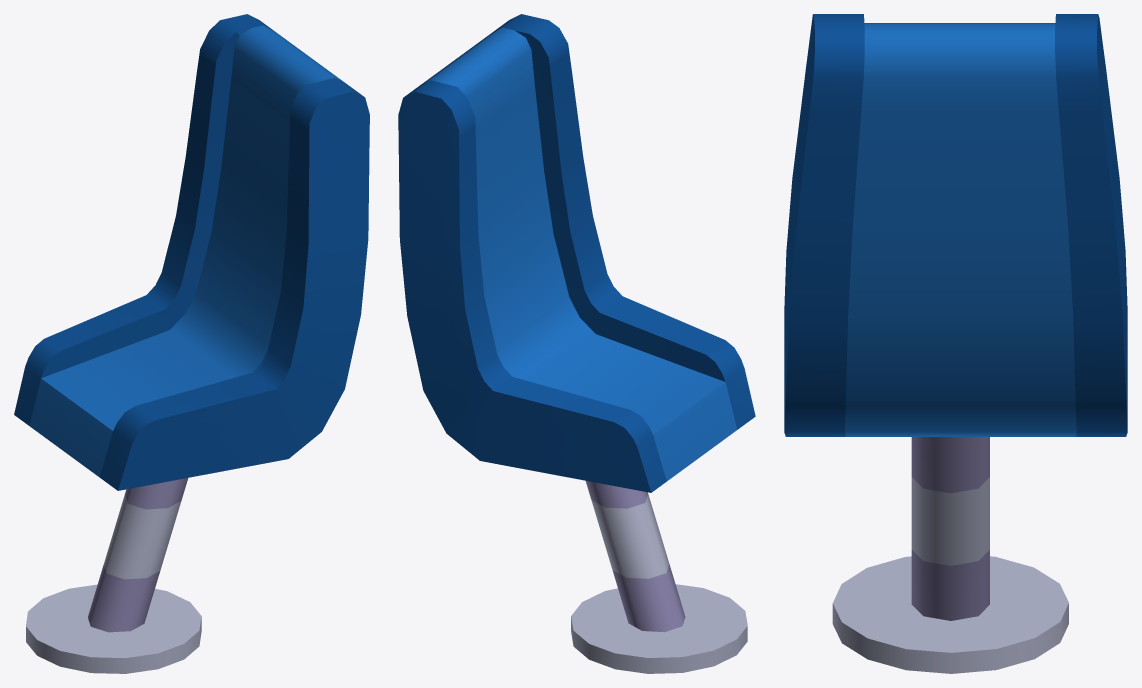
The model's file is chair.fbx.
3 views of the same model, side by side, from view 1: azimuth 30°, elevation 25°; view 2: azimuth 150°, elevation 25°; view 3: azimuth 270°, elevation 25° (orthographic). The views are drawn at different scales.
Parts seen in each view (by area): view 1: chair; view 2: chair; view 3: chair.
Part boxes in pixels (left/top/right/bottom): chair: left=14, top=14, right=369, bottom=673; chair: left=398, top=14, right=755, bottom=673; chair: left=784, top=14, right=1127, bottom=673.
Bounding box in the file's own units: 212 × 386 × 168.
